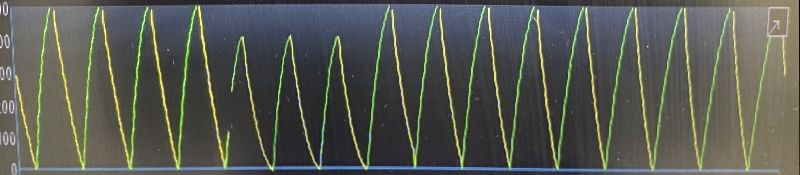normal_volume: (19, 1, 758, 175)
